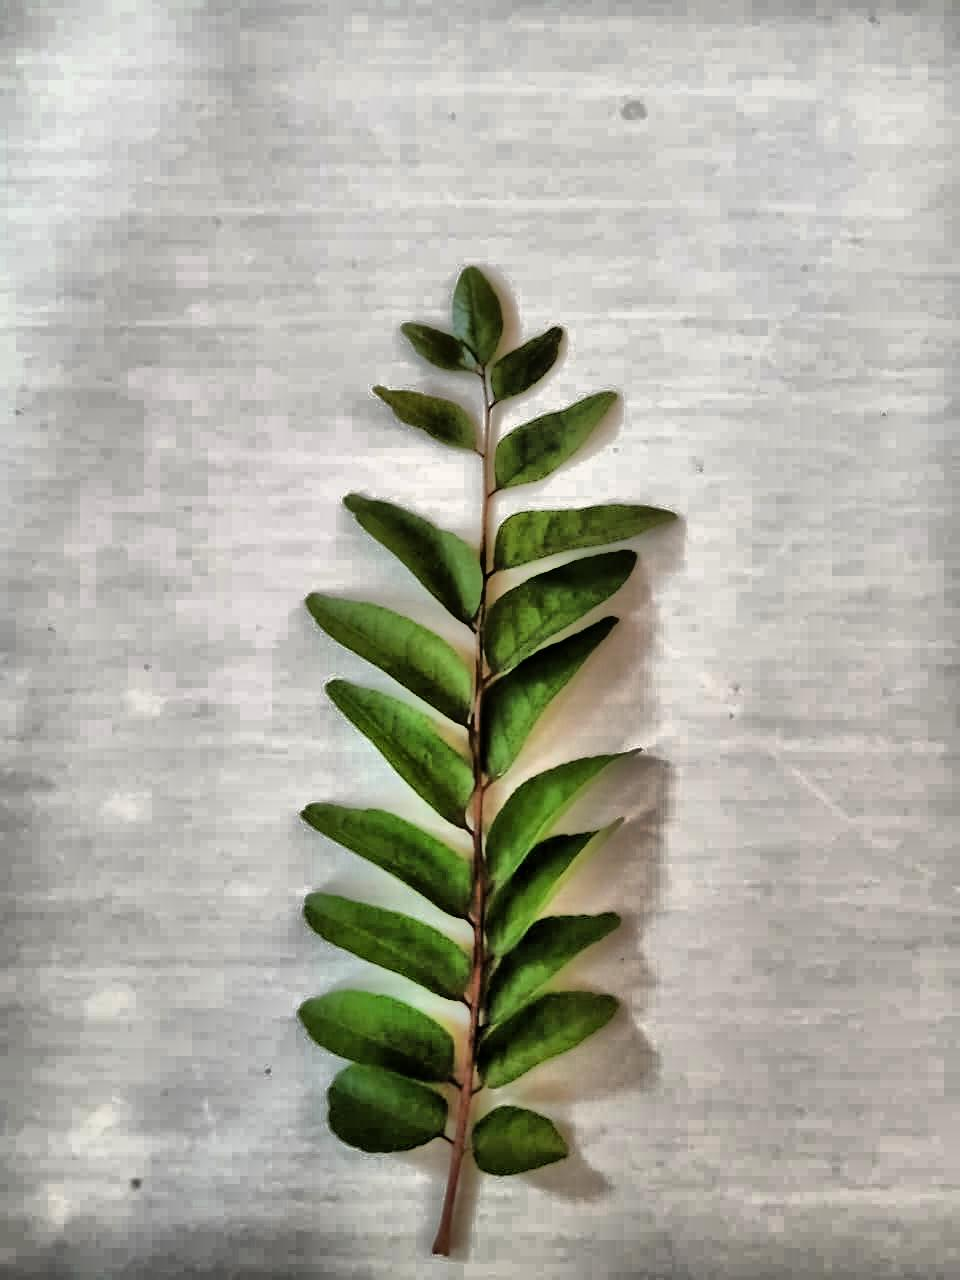daun kari: (298, 267, 676, 1254)
